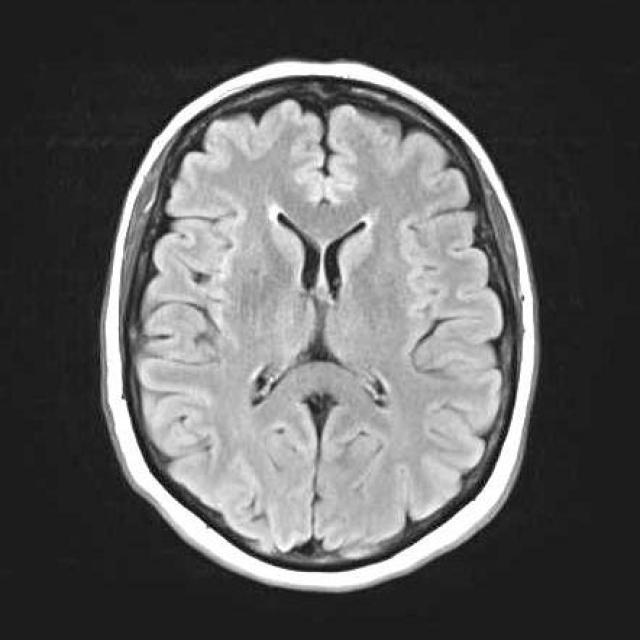notumor: (101, 62, 540, 594)
